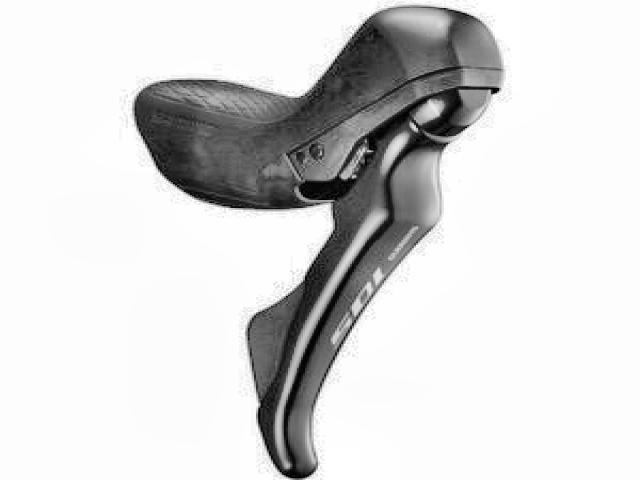sti_shifter: (133, 7, 509, 479)
